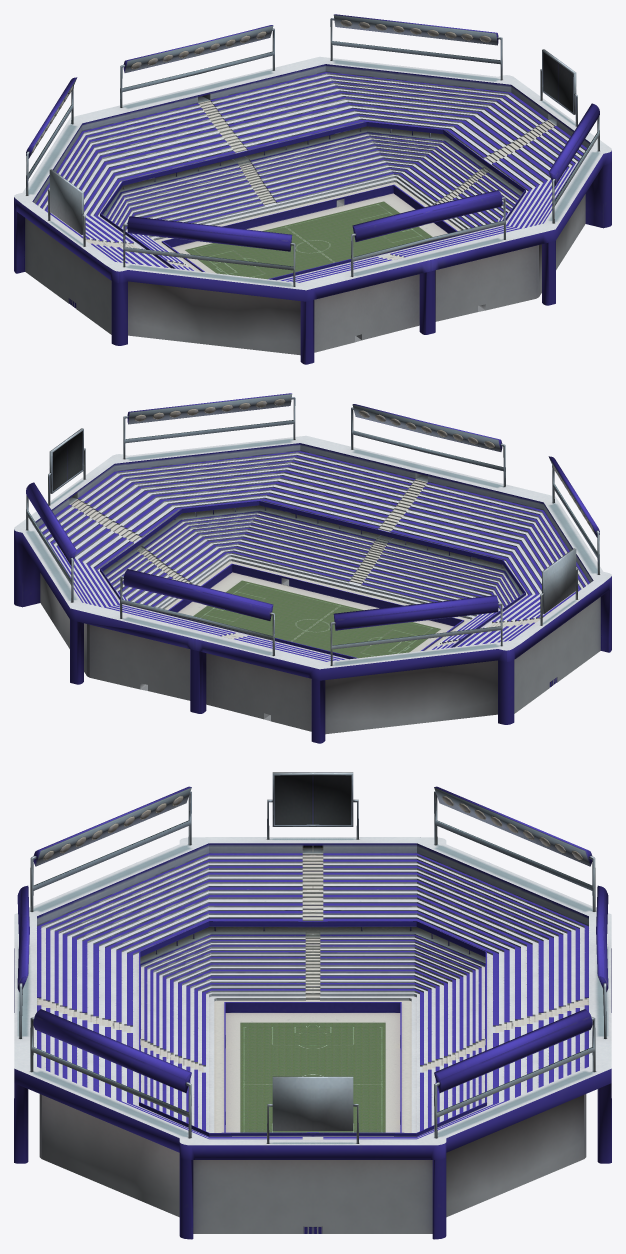
Rendered from stadium.glb.
The picture shows the model from 3 angles, top to bottom: view 1: azimuth 30°, elevation 25°; view 2: azimuth 150°, elevation 25°; view 3: azimuth 270°, elevation 25°; orthographic projection. The views are drawn at different scales.
Parts seen in each view (by area): view 1: stadium.baked.000; view 2: stadium.baked.000; view 3: stadium.baked.000.
Boxes of the visible parts, left/top/right/bottom form: stadium.baked.000: left=14, top=14, right=611, bottom=364; stadium.baked.000: left=14, top=393, right=611, bottom=743; stadium.baked.000: left=14, top=772, right=611, bottom=1239.
Bounding box in the file's own units: 19706 × 4784 × 16154.
Materials: 1 (1 with a texture image).
